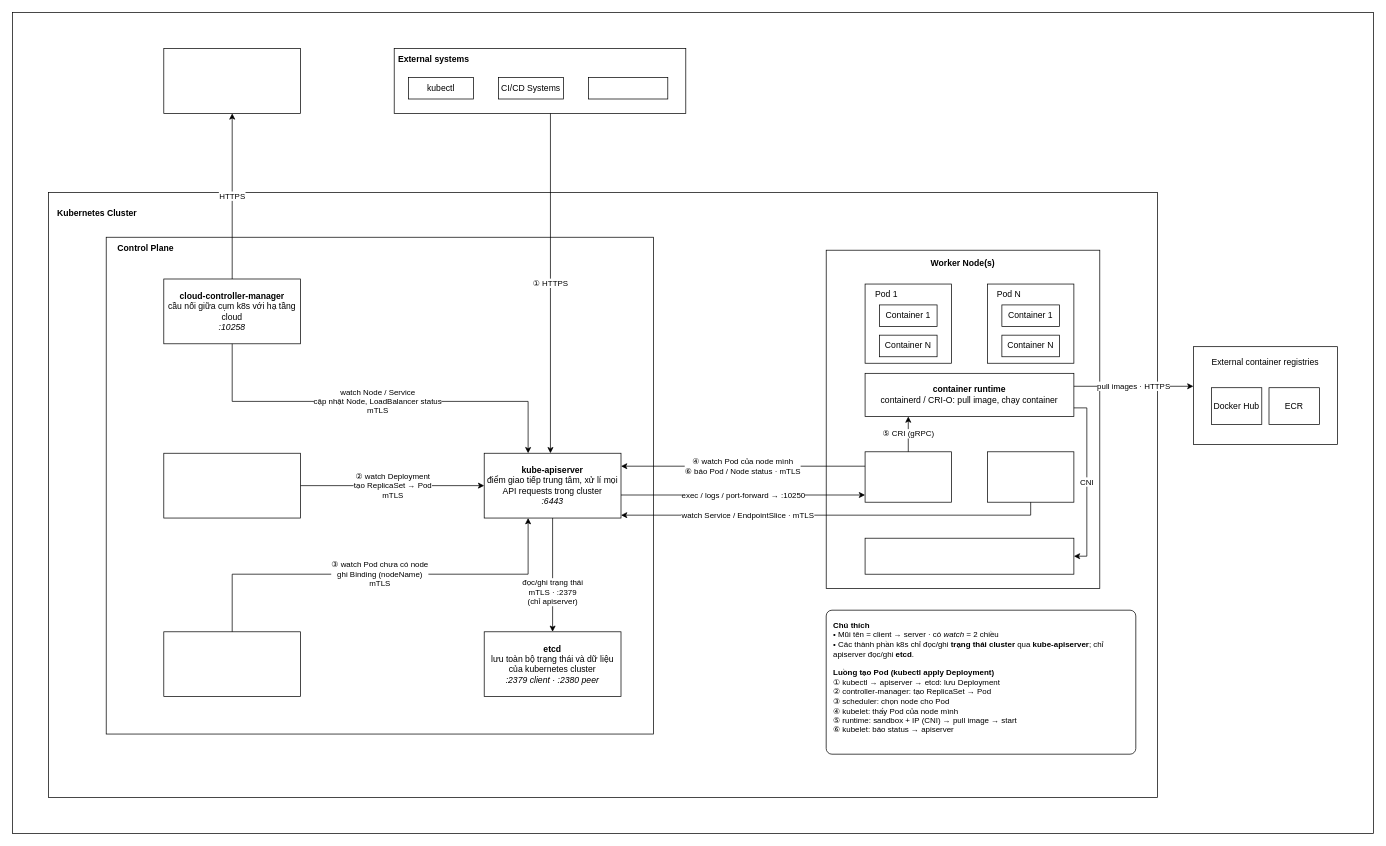
This 1386x846 diagram has some shape labels left out. Here are the shapes that lost their labels. From the top down, the centre of each, then its label:
the point at 232,80: cloud provider APIs Load balancer, Storage, Network
the point at 628,88: Monitoring systems
the point at 232,485: kube-controller-manager đảm bảo actual state khớp với desired state :10257
the point at 907,476: kubelet quản lý pod lifecycle systemd service · :10250
the point at 1030,476: kube-proxy Service IP → Pod IP, cân bằng tải L4 (iptables / nftables)
the point at 969,555: CNI plugin (Calico, Flannel...) cấp IP & nối mạng pod ↔ pod
the point at 232,664: kube-scheduler người điều phối, chọn worker node phù hợp để chạy pod :10259
